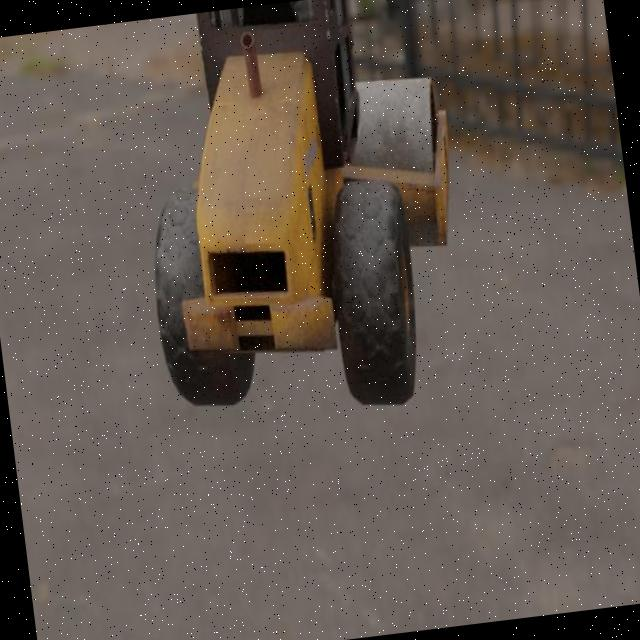Roller: (120, 0, 480, 434)
